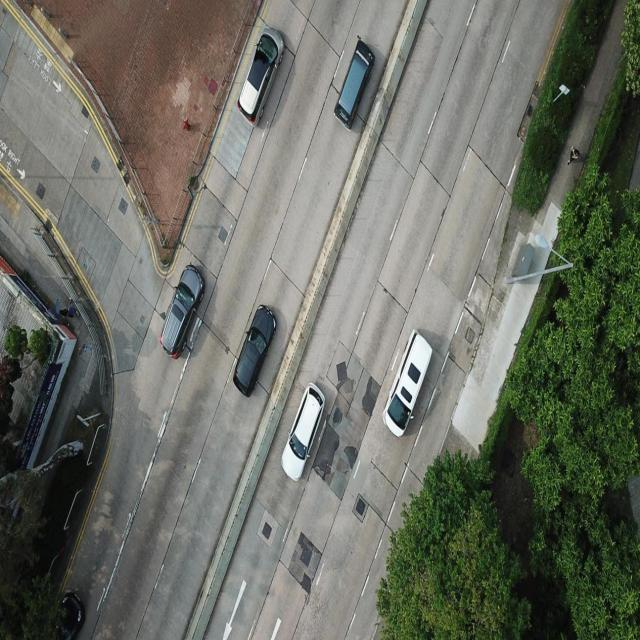p3rson: (567, 145, 580, 166)
